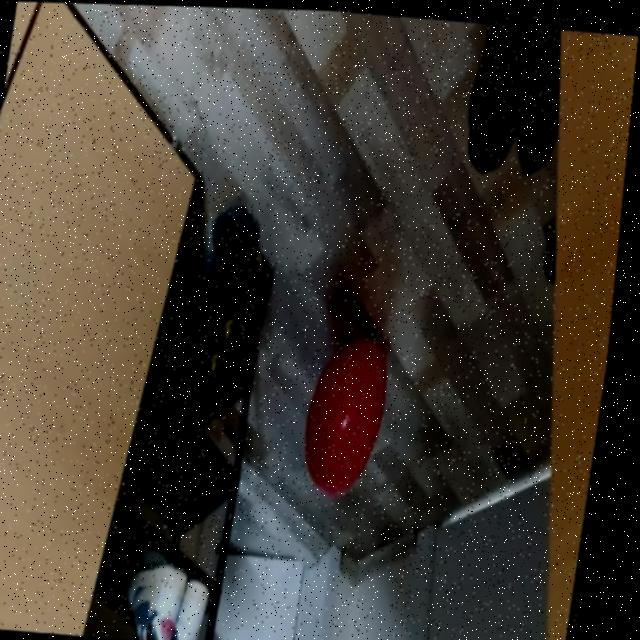balloon: (302, 311, 407, 506)
